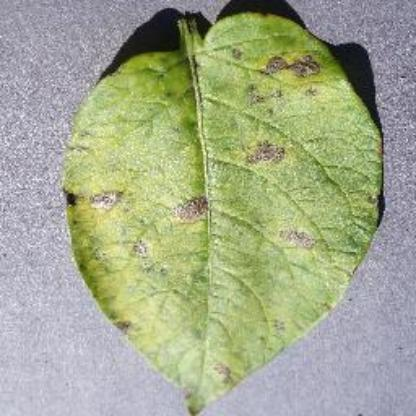Early-Blight: (60, 3, 392, 415)
